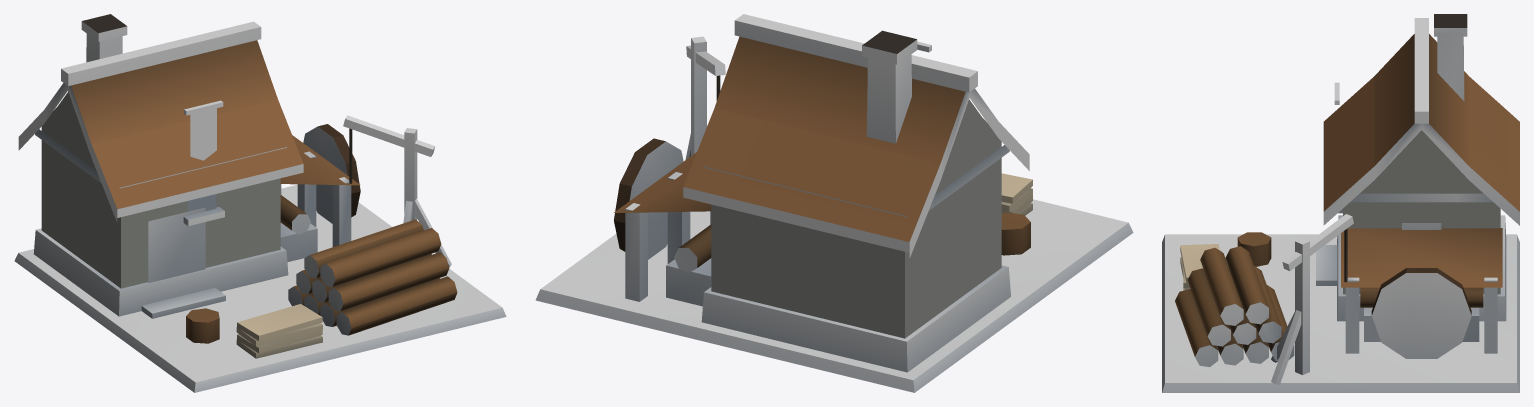
The model's file is lumber_mill_t4.glb.
3 renders of one model, left to right at view 1: azimuth 30°, elevation 25°; view 2: azimuth 150°, elevation 25°; view 3: azimuth 270°, elevation 25°, orthographic. The views are drawn at different scales.
Visible parts, largest first — view 1: lumber_mill_t4; view 2: lumber_mill_t4; view 3: lumber_mill_t4.
Boxes of the visible parts, bbox=[...] form: lumber_mill_t4: bbox=[14, 14, 506, 392]; lumber_mill_t4: bbox=[535, 14, 1133, 392]; lumber_mill_t4: bbox=[1162, 14, 1519, 392].
Size of the model in its own units: 1.87 by 1.42 by 1.86.
